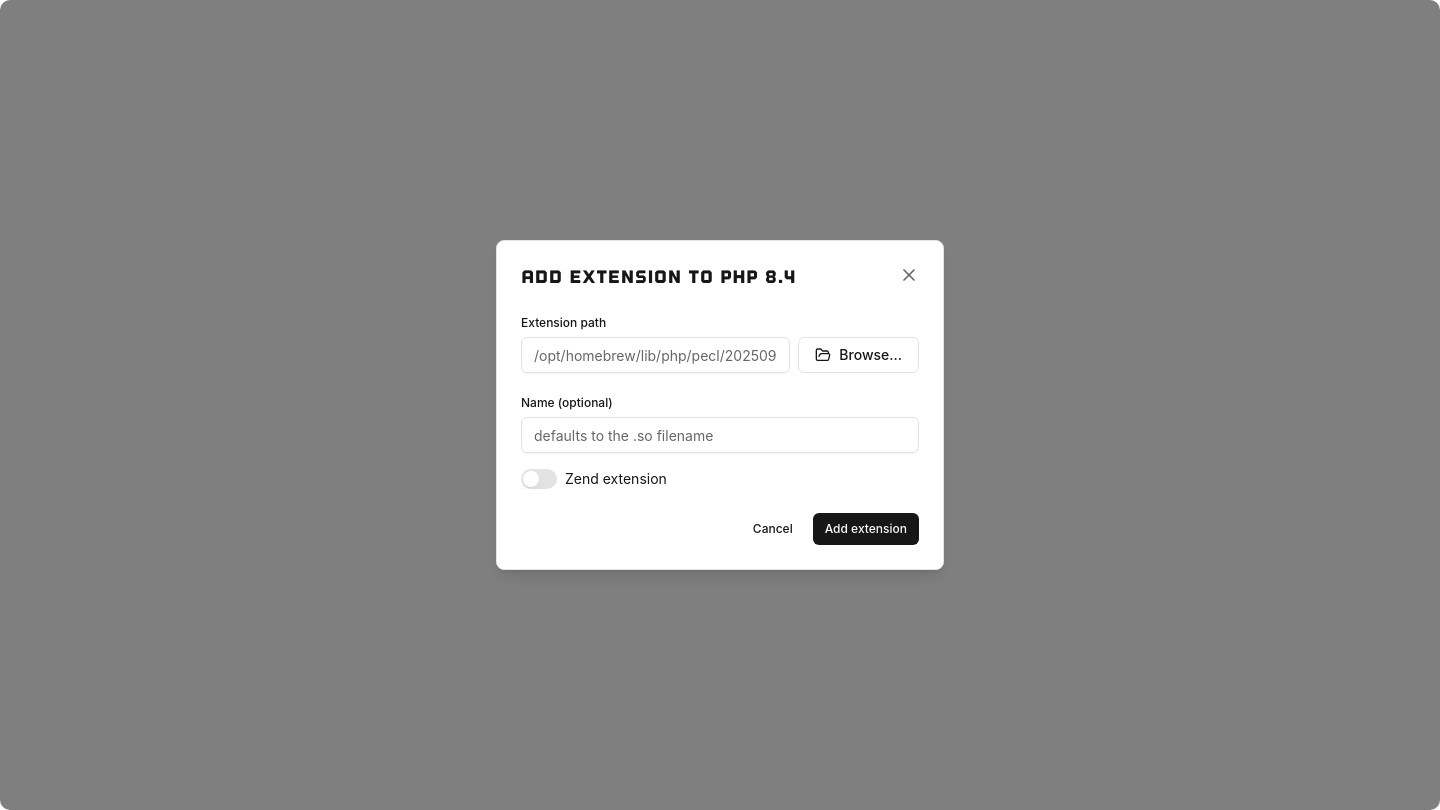
Test: AddExtensionModal › fills the path from the native picker
The width and height of the screenshot is (1440, 810).
Click the button "Browse…".
click(859, 355)  # box [798,337,919,373]
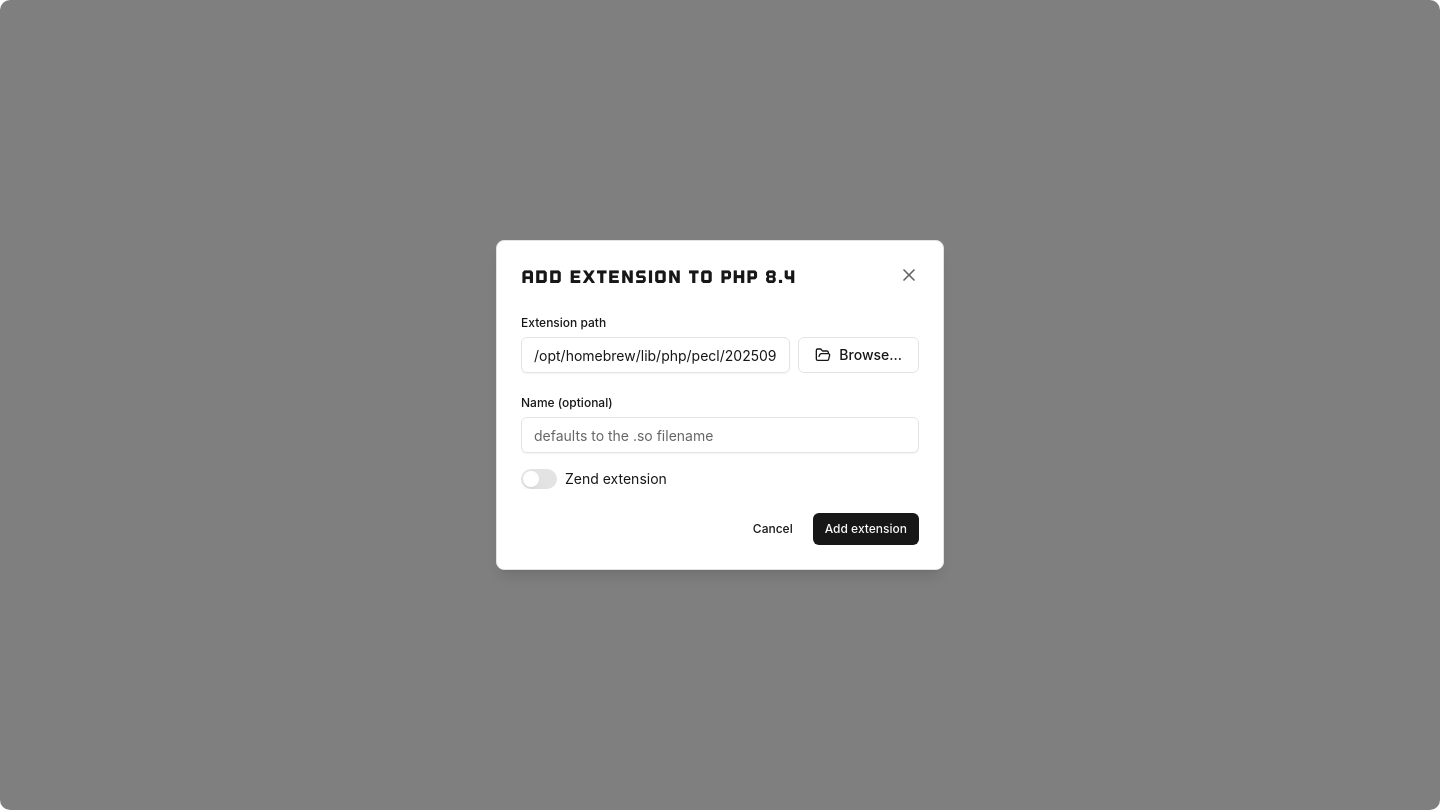
Expected: the field with id "ext-path" holds "/opt/homebrew/lib/php/pecl/20250925/scrypt.so", [521,337,790,373]
